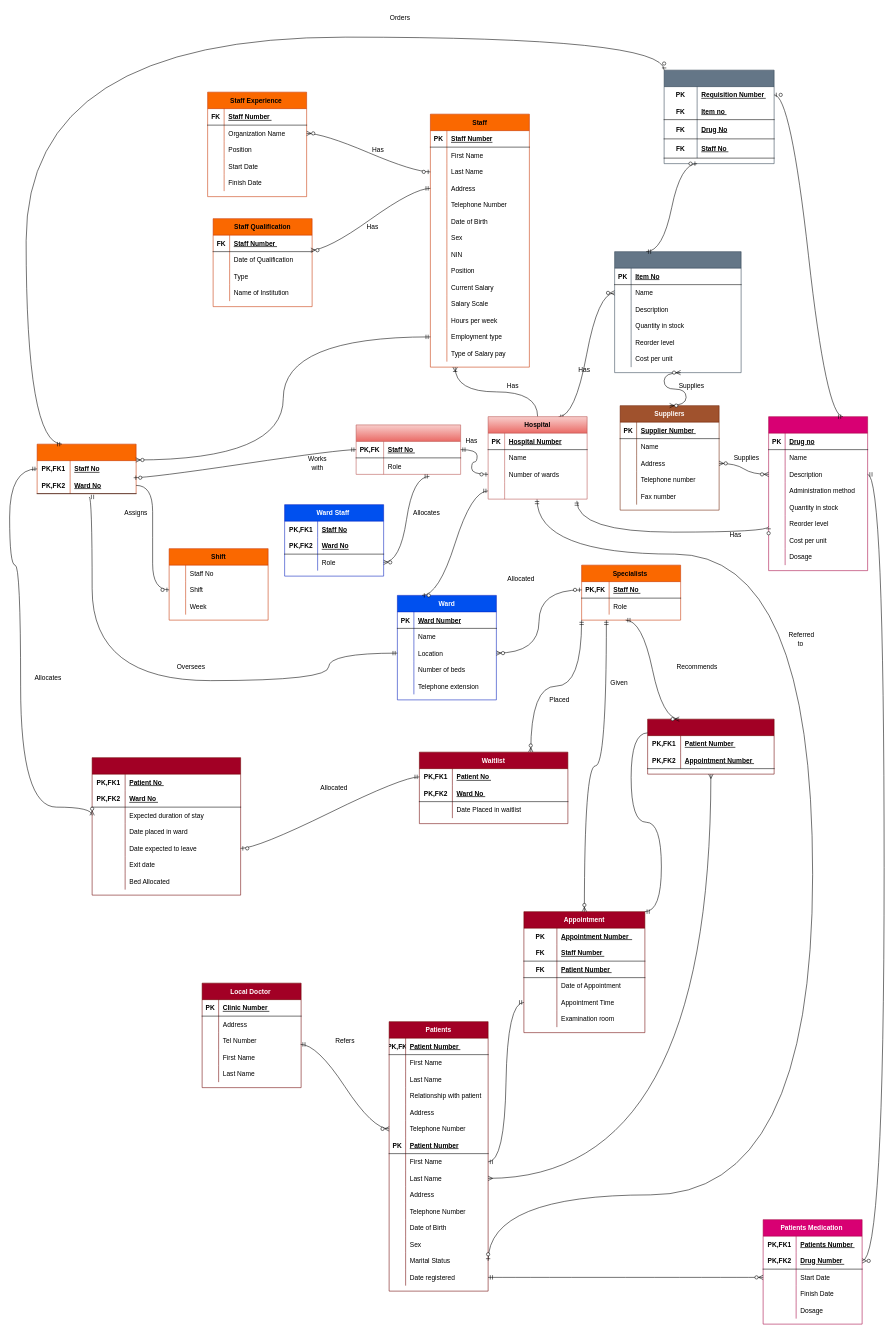
Image size: 894x1334. Some labels were removed from this diagram. The box of each missing label's shape, as (x1, y1, x2, y2) in pixels:
Charge Nurse: (37, 444, 136, 494)
Hospital Management: (356, 424, 461, 474)
In patient: (92, 757, 241, 895)
Out patients: (647, 719, 774, 774)
Pharmaceuticals: (768, 416, 868, 571)
Requisition table: (664, 70, 774, 164)
Surgical and non surgical supplies: (614, 251, 741, 373)
